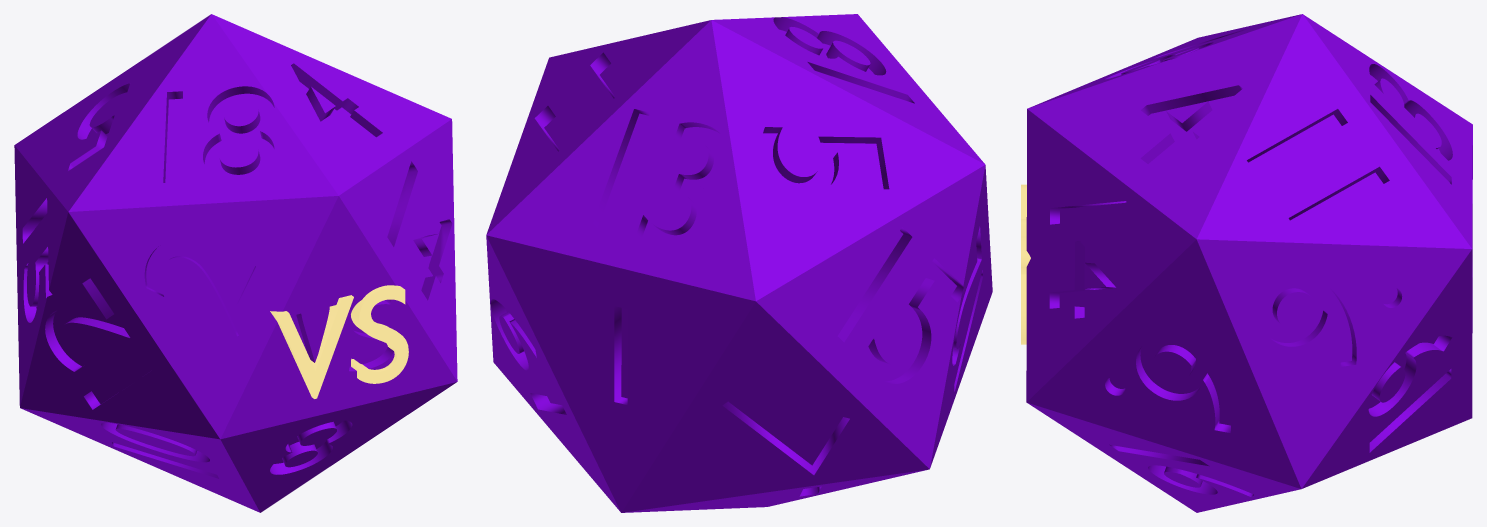
The model's file is D20SVG1.glb.
3 renders of one model, left to right at view 1: azimuth 30°, elevation 25°; view 2: azimuth 150°, elevation 25°; view 3: azimuth 270°, elevation 25°, orthographic. The views are drawn at different scales.
Parts seen in each view (by area): view 1: .d20.001, Text.002; view 2: .d20.001; view 3: .d20.001, Text.002.
Part boxes in pixels (x1,y1,x2,y2): .d20.001: [14, 14, 457, 512]; Text.002: [270, 285, 408, 398]; .d20.001: [486, 14, 992, 512]; .d20.001: [1026, 14, 1472, 512]; Text.002: [1021, 184, 1030, 344].
Bounding box in the file's own units: 21.43 × 24.72 × 20.29.
